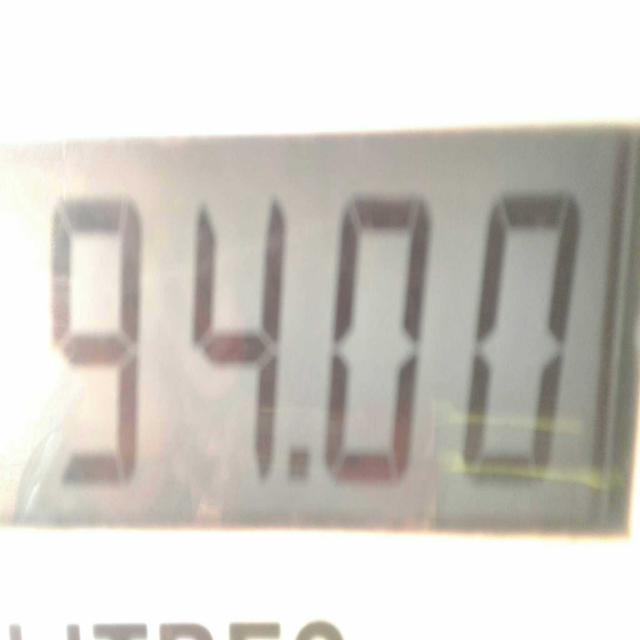.: (288, 450, 308, 480)
0: (466, 196, 575, 493), (323, 196, 429, 493)
4: (188, 204, 282, 466)
9: (46, 202, 148, 490)
